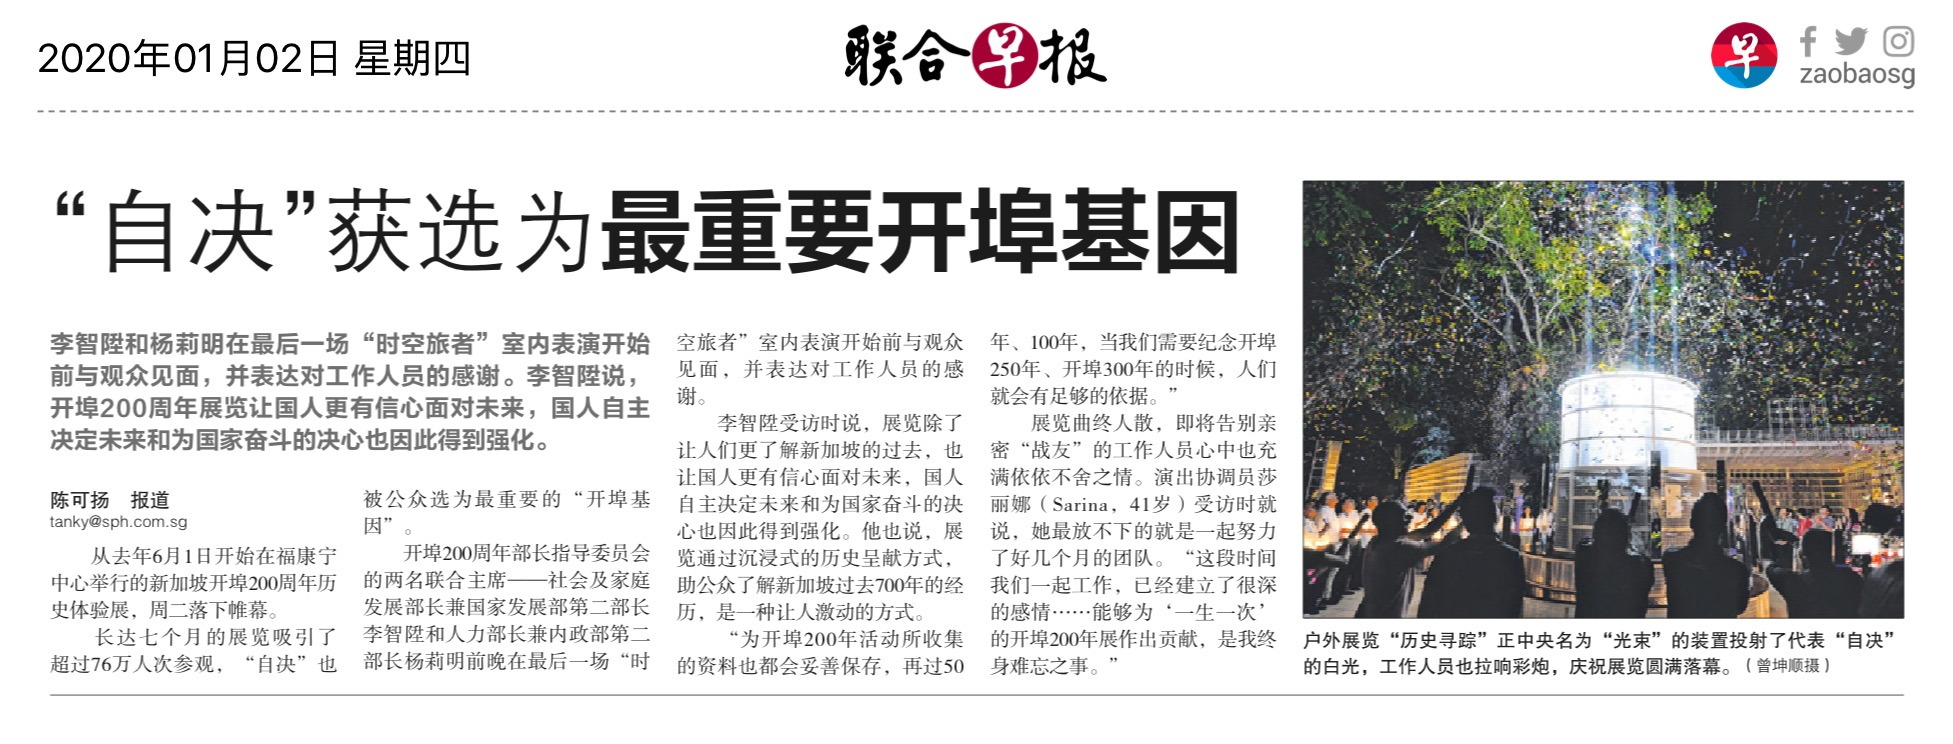heading: (49, 172, 1252, 283)
